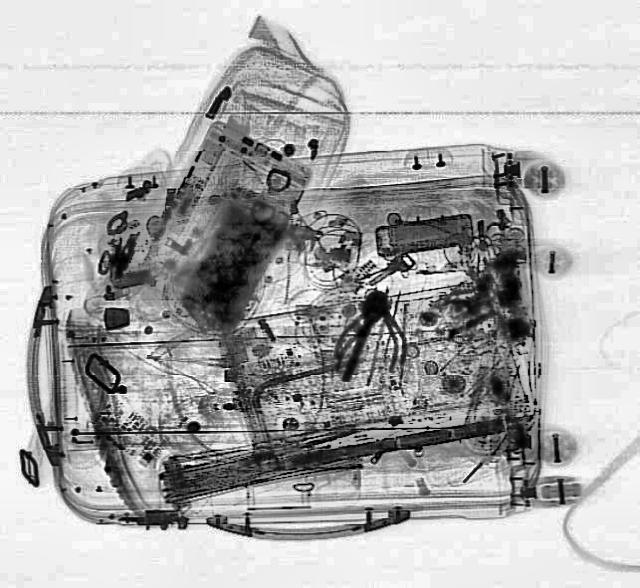Pliers: (331, 283, 412, 379), (332, 292, 406, 376)
